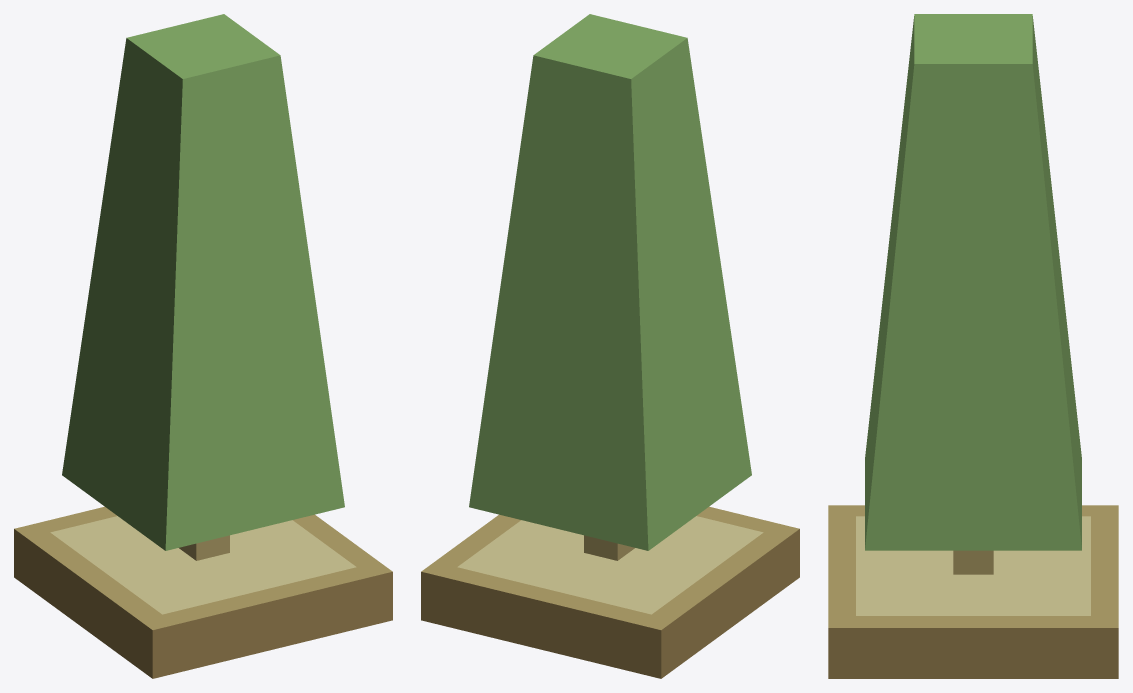
File: Tree1.glb
3 views of the same model, side by side, from view 1: azimuth 30°, elevation 25°; view 2: azimuth 150°, elevation 25°; view 3: azimuth 270°, elevation 25° (orthographic). The views are drawn at different scales.
Visible parts, largest first — view 1: huitugou_2443_2672; view 2: huitugou_2443_2672; view 3: huitugou_2443_2672.
Part boxes in pixels (left/top/right/bottom): huitugou_2443_2672: left=14, top=14, right=392, bottom=678; huitugou_2443_2672: left=421, top=14, right=799, bottom=678; huitugou_2443_2672: left=828, top=14, right=1118, bottom=678.
Bounding box in the file's own units: 0.3831 × 0.8421 × 0.3831.
Materials: 1 (1 with a texture image).
